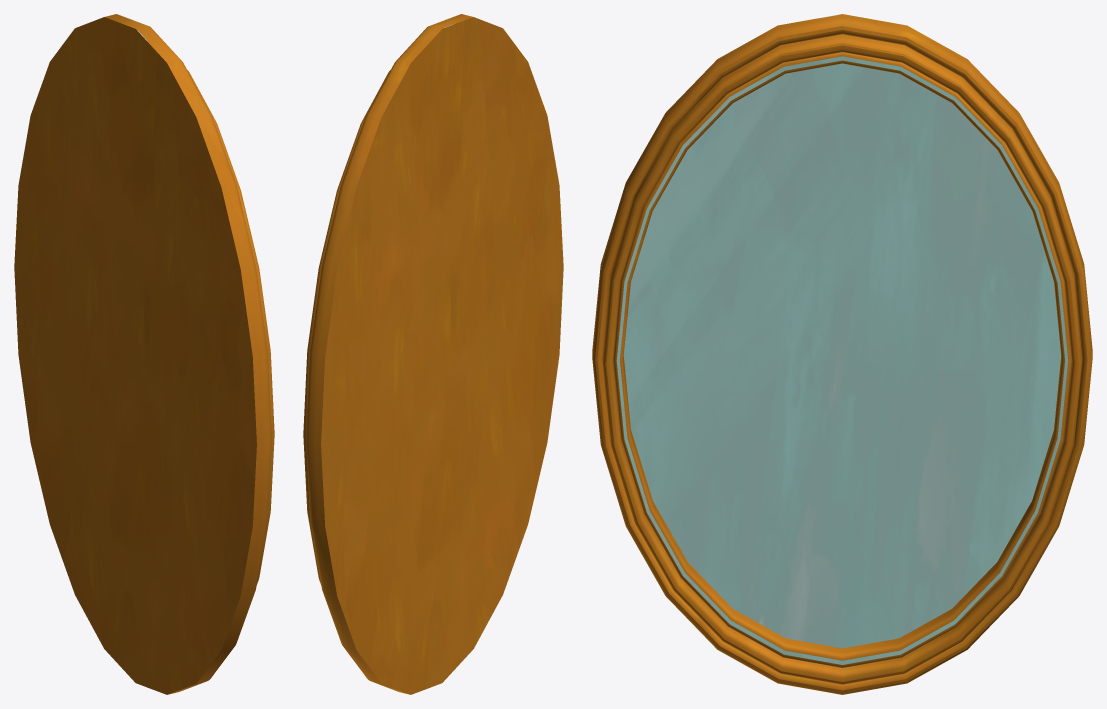
The model's file is House_Mirror_v01.fbx.
3 views of the same model, side by side, from view 1: azimuth 30°, elevation 25°; view 2: azimuth 150°, elevation 25°; view 3: azimuth 270°, elevation 25° (orthographic). The views are drawn at different scales.
Visible parts, largest first — view 1: Mirror; view 2: Mirror; view 3: Mirror.
Boxes of the visible parts, left/top/right/bottom form: Mirror: left=14, top=14, right=274, bottom=694; Mirror: left=303, top=14, right=563, bottom=694; Mirror: left=592, top=14, right=1092, bottom=694.
Bounding box in the file's own units: 4 × 68.55 × 102.
Materials: 1 (1 with a texture image).
